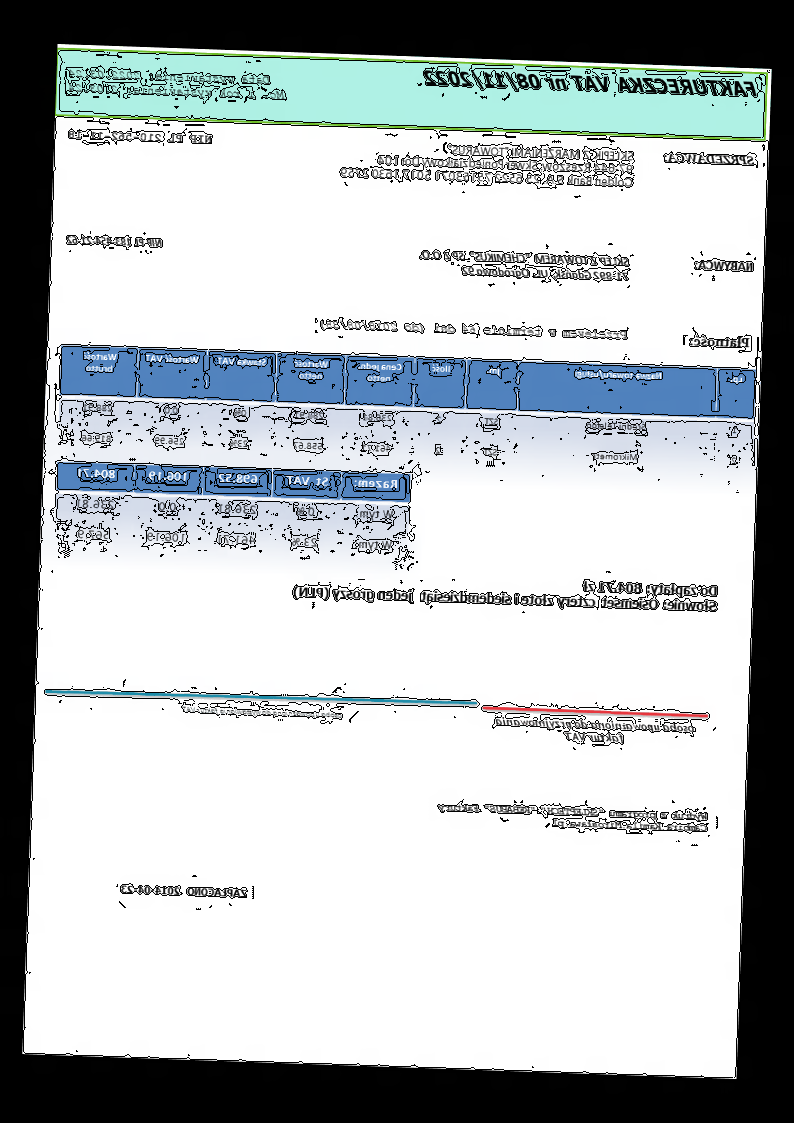Table: (57, 341, 758, 481), (52, 460, 413, 568)
TextBox: (290, 569, 721, 617), (338, 138, 637, 192), (422, 65, 762, 101), (436, 798, 711, 837), (66, 65, 288, 103), (420, 248, 632, 284), (320, 317, 630, 341), (492, 714, 698, 749), (178, 704, 346, 722), (67, 127, 216, 147), (118, 882, 250, 900), (663, 149, 758, 167), (66, 233, 166, 249), (694, 256, 757, 274), (689, 332, 752, 350)
